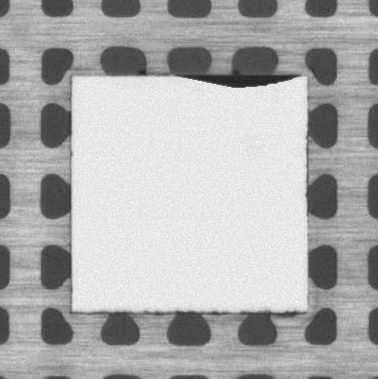DIE_BROKEN: (185, 69, 304, 89)
